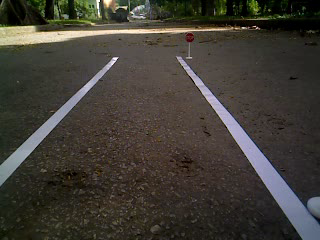Stop: (183, 31, 197, 45)
